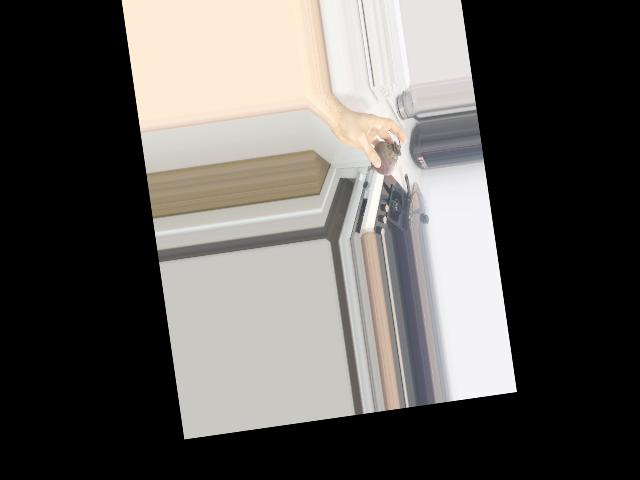beet: (361, 129, 404, 178)
